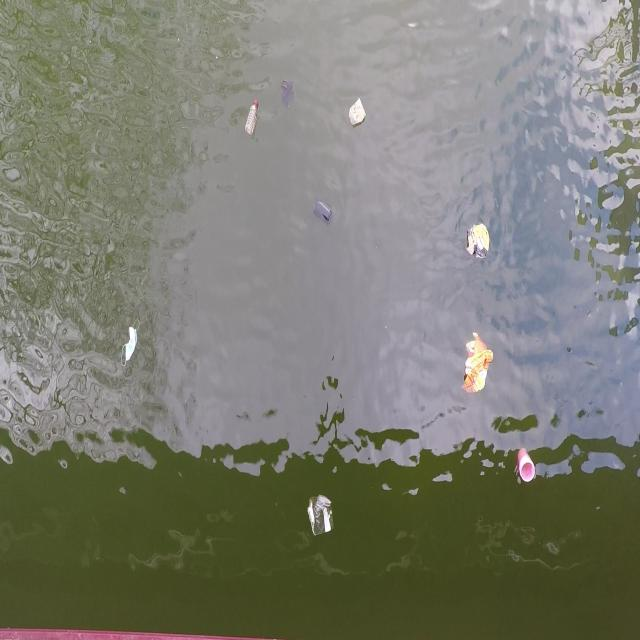Bouteille plastique: (244, 97, 262, 137)
Non plastique: (117, 317, 146, 369), (343, 92, 371, 133)
Sac plastique: (460, 326, 498, 401), (302, 491, 341, 543), (462, 218, 495, 262)
